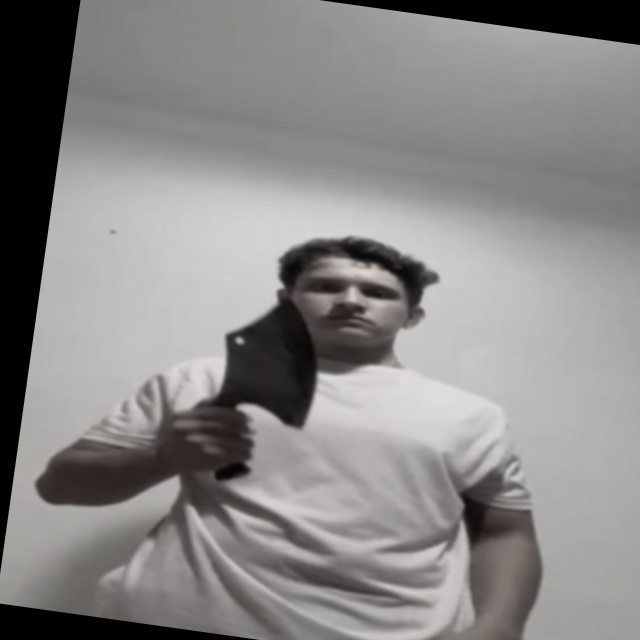Sharp-Object: (214, 291, 325, 425)
